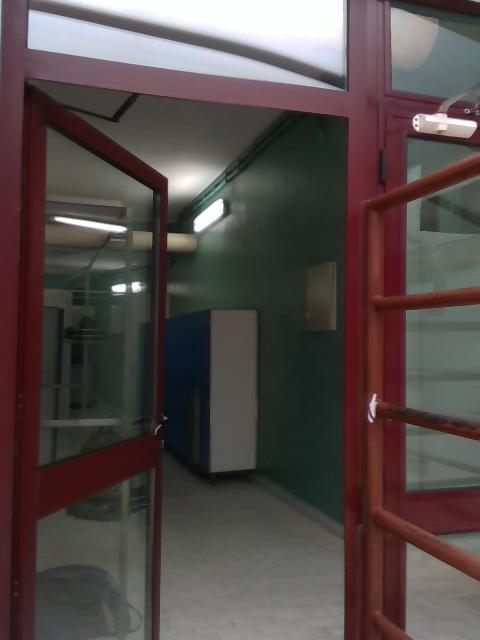open_door: (1, 47, 379, 639)
